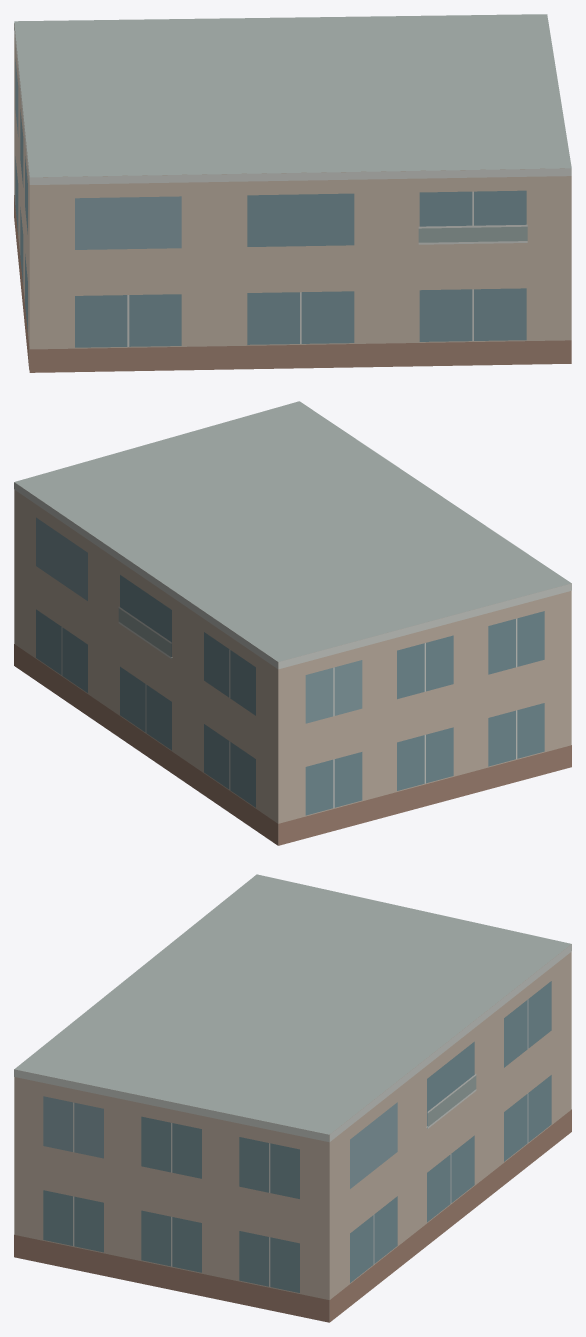
The model's file is survey-upis-32887764.glb.
The picture shows the model from 3 angles, top to bottom: view 1: azimuth 30°, elevation 25°; view 2: azimuth 150°, elevation 25°; view 3: azimuth 270°, elevation 25°; orthographic projection. The views are drawn at different scales.
Visible parts, largest first — view 1: survey-upis-32887764.tmp; view 2: survey-upis-32887764.tmp; view 3: survey-upis-32887764.tmp.
Part boxes in pixels (x1,y1,x2,y2): survey-upis-32887764.tmp: [14, 14, 571, 372]; survey-upis-32887764.tmp: [14, 401, 571, 845]; survey-upis-32887764.tmp: [14, 874, 571, 1322].
Bounding box in the file's own units: 18.15 × 6.1 × 16.42.
